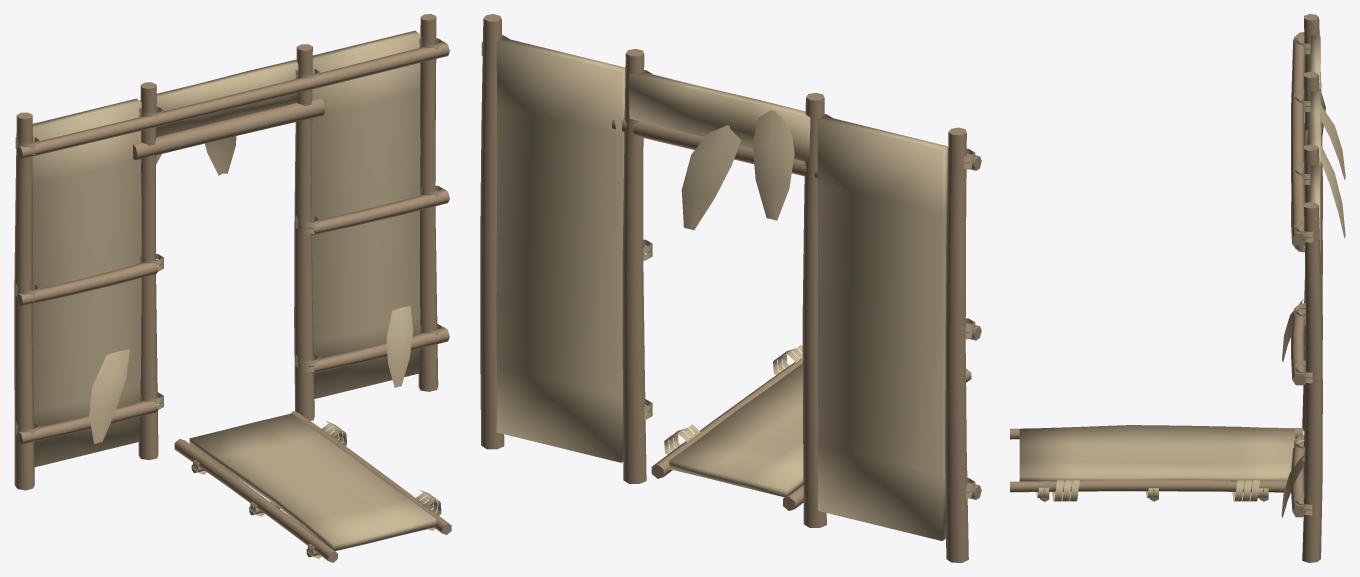
Rendered from BLD_Doorway.fbx.
3 views of the same model, side by side, from view 1: azimuth 30°, elevation 25°; view 2: azimuth 150°, elevation 25°; view 3: azimuth 270°, elevation 25° (orthographic). The views are drawn at different scales.
Parts seen in each view (by area): view 1: Doorway_LOD0, Door_LOD0; view 2: Doorway_LOD0, Door_LOD0; view 3: Door_LOD0, Doorway_LOD0.
Part boxes in pixels (<box>): Doorway_LOD0: <box>14,14,449,490</box>; Door_LOD0: <box>174,411,451,562</box>; Doorway_LOD0: <box>480,14,981,562</box>; Door_LOD0: <box>651,344,971,510</box>; Door_LOD0: <box>1010,425,1303,501</box>; Doorway_LOD0: <box>1281,14,1345,562</box>.
Size of what is drawn, in the model's own units: 3 by 2.52 by 2.14.
